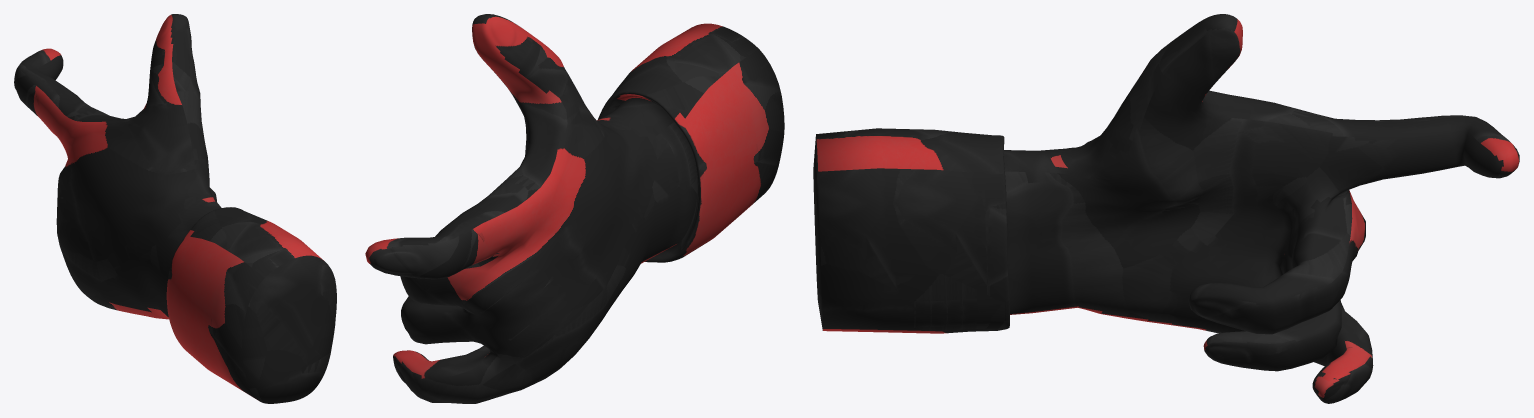
File: HandBase.fbx
3 renders of one model, left to right at view 1: azimuth 30°, elevation 25°; view 2: azimuth 150°, elevation 25°; view 3: azimuth 270°, elevation 25°, orthographic. The views are drawn at different scales.
Parts seen in each view (by area): view 1: Cube.002; view 2: Cube.002; view 3: Cube.002.
Boxes of the visible parts, x1,y1,x2,y2 form: Cube.002: (14,14,336,403); Cube.002: (365,14,784,403); Cube.002: (813,14,1519,403).
Bounding box in the file's own units: 274 × 510 × 867.
